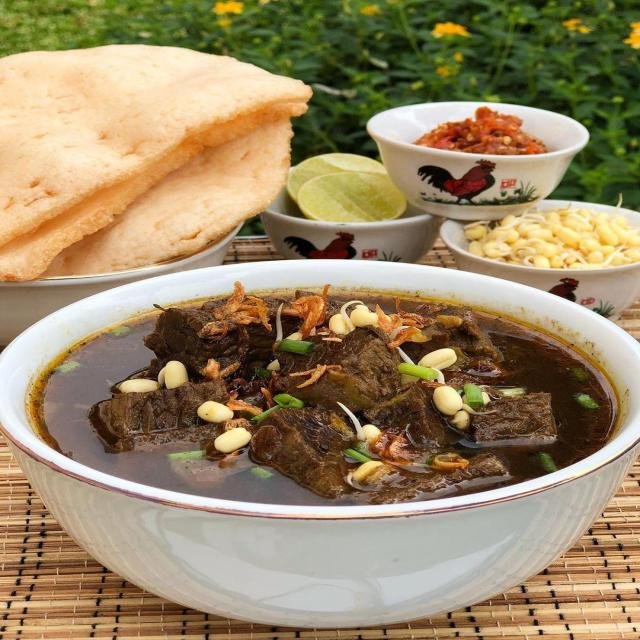Rawon: (41, 283, 607, 489)
